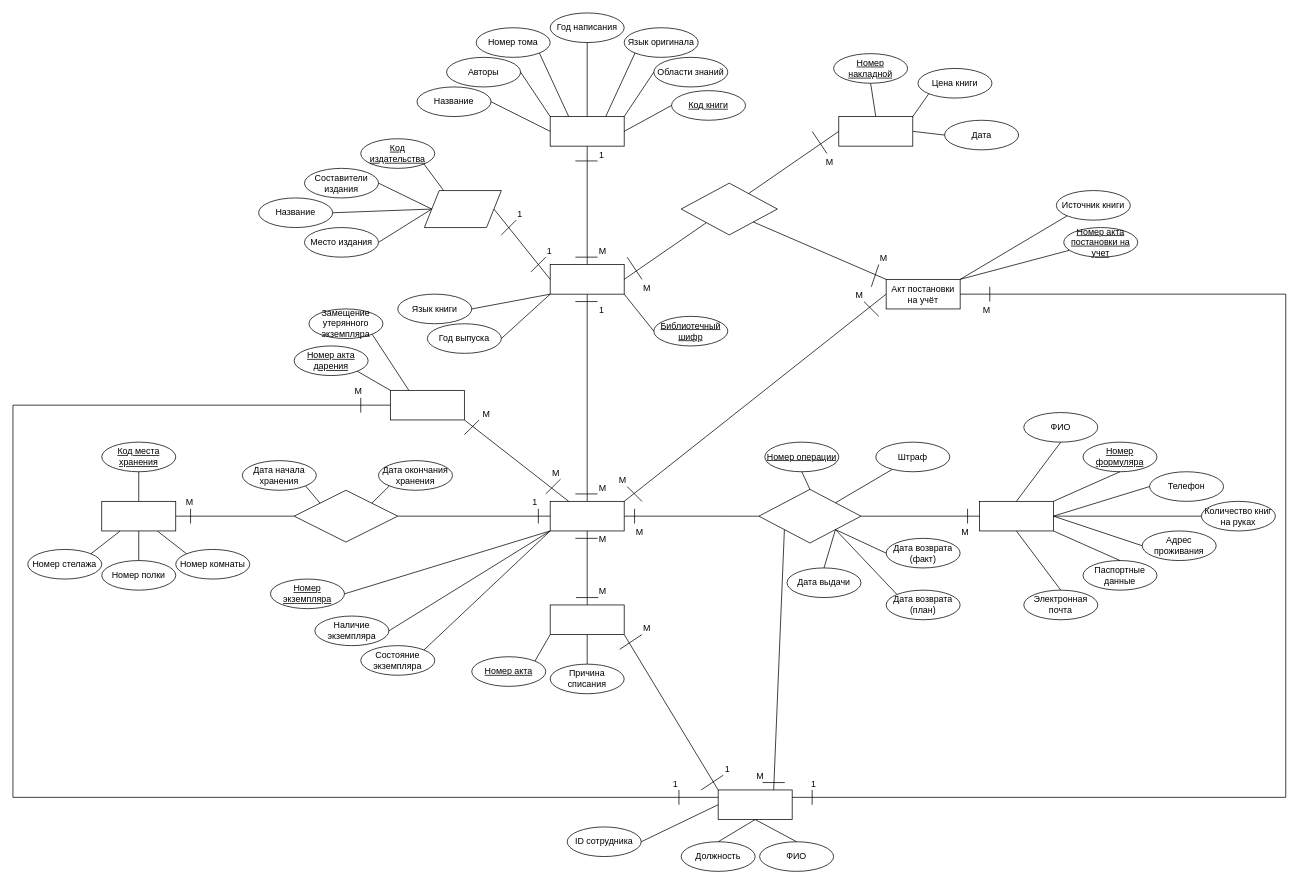
This 1299x884 diagram has some shape labels left out. The centre of each missing label's shape, as x and y in pixels:
"Абонемент" belongs at point (809, 516).
"Акт дарения" belongs at point (427, 405).
"Акт списания" belongs at point (586, 619).
"Издание книги" belongs at point (586, 279).
"Издательство" belongs at point (462, 209).
"Книга" belongs at point (586, 131).
"Место хранения" belongs at point (138, 516).
"Накладная" belongs at point (875, 131).
"Состав накладной" belongs at point (728, 208).
"Сотрудник" belongs at point (754, 804).
"Хранится" belongs at point (345, 516).
"Читатель" belongs at point (1016, 516).
"Экземпляр книги" belongs at point (586, 516).
